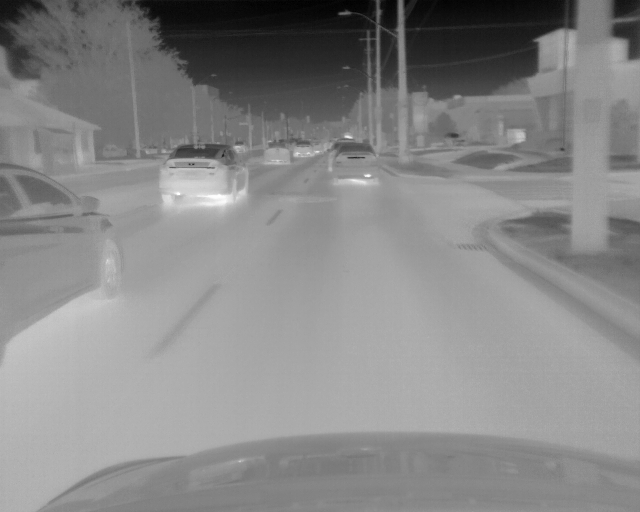car: (1, 161, 121, 364), (158, 143, 251, 207), (333, 143, 380, 184), (326, 141, 353, 173), (262, 140, 290, 165), (293, 139, 313, 157), (233, 141, 249, 154)
